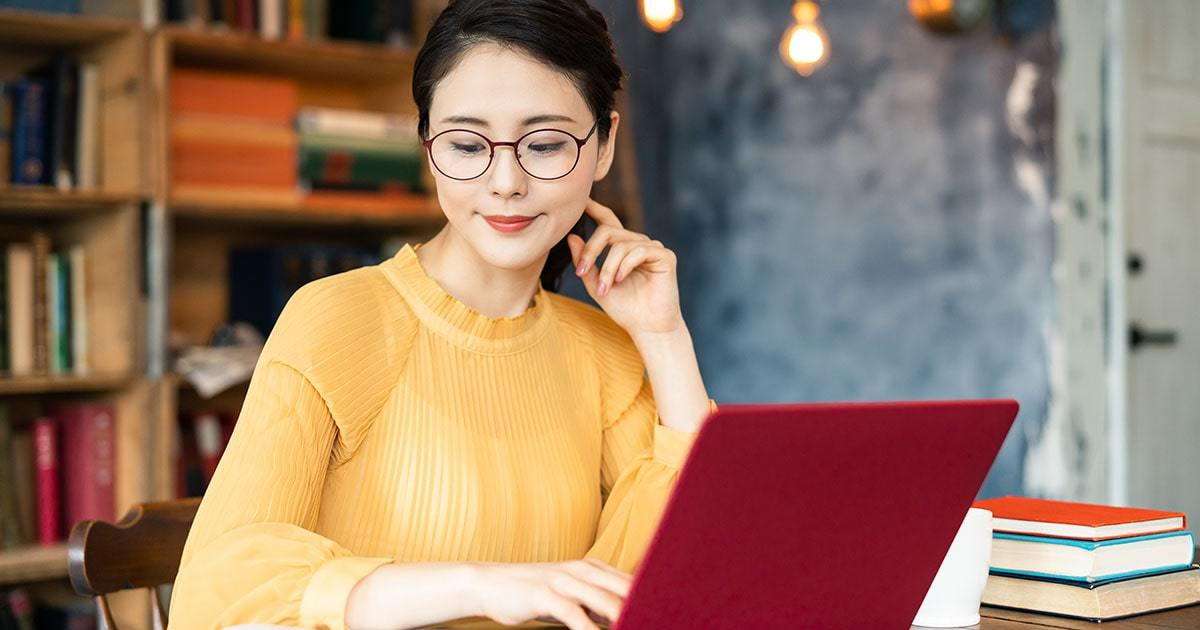glasses: (425, 110, 610, 197)
